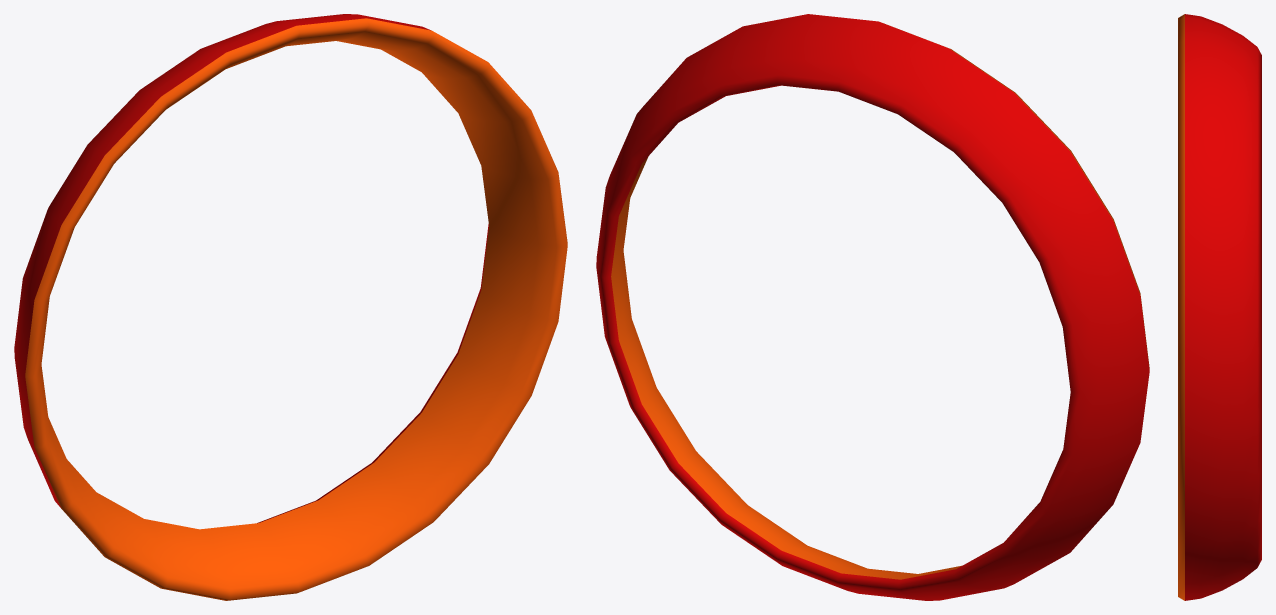
The model's file is Checkpoint2.fbx.
3 renders of one model, left to right at view 1: azimuth 30°, elevation 25°; view 2: azimuth 150°, elevation 25°; view 3: azimuth 270°, elevation 25°, orthographic. The views are drawn at different scales.
Parts seen in each view (by area): view 1: Torus01; view 2: Torus01; view 3: Torus01.
Boxes of the visible parts, box(x1,y1,x2,y2) form: Torus01: box(14, 14, 567, 600); Torus01: box(596, 14, 1149, 600); Torus01: box(1178, 14, 1261, 600).
Size of the model in its own units: 217 by 217 by 30.85.
